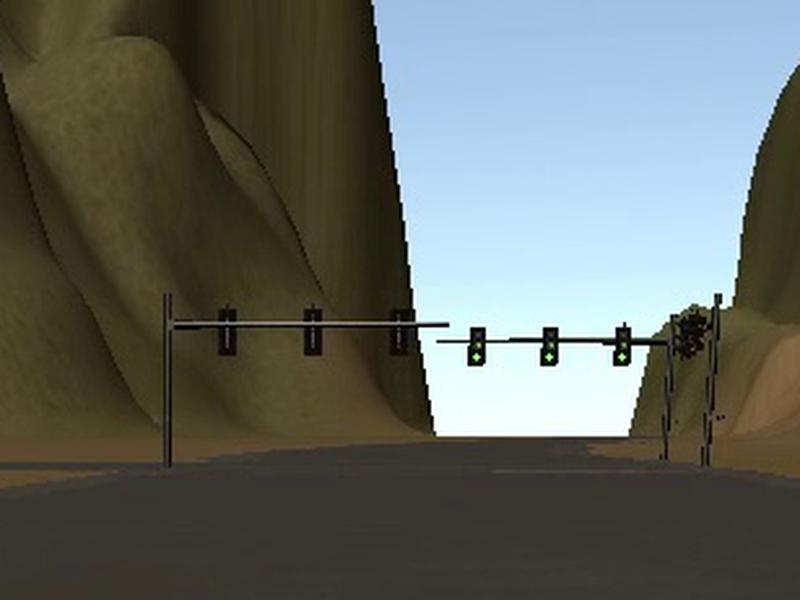Green: (466, 326, 487, 366), (539, 326, 559, 366), (613, 328, 632, 364)
